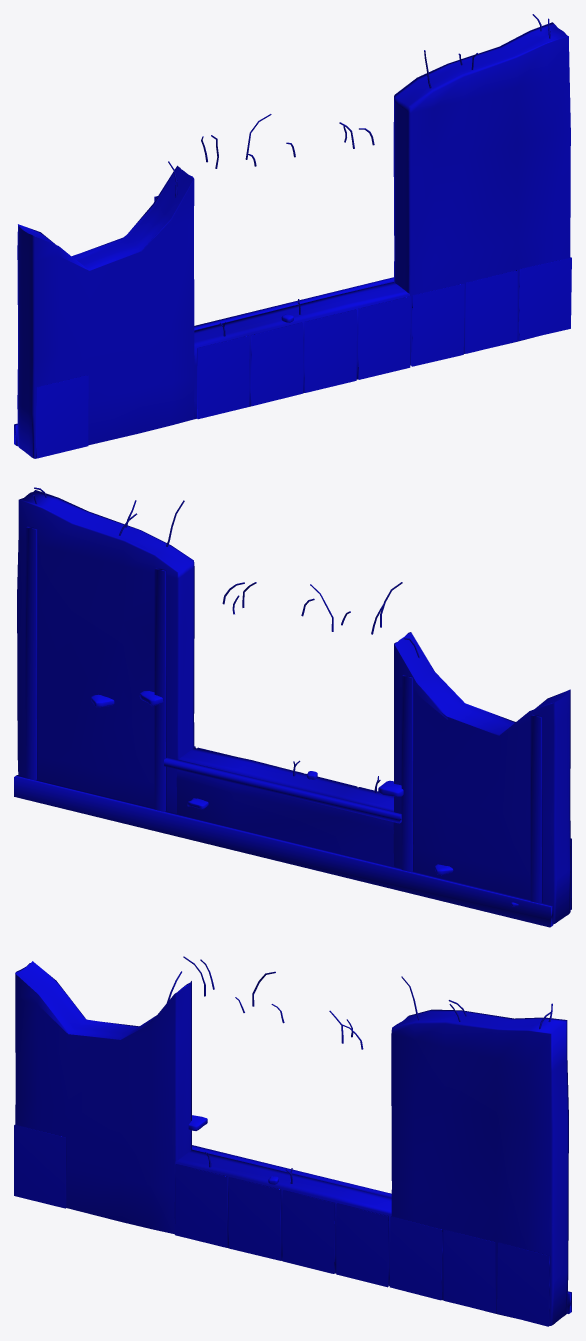
File: tower_bay_broken.glb
3 views of the same model, one above another, from view 1: azimuth 30°, elevation 25°; view 2: azimuth 150°, elevation 25°; view 3: azimuth 330°, elevation 25° (orthographic).
Visible parts, largest first — view 1: tower_bay_broken; view 2: tower_bay_broken; view 3: tower_bay_broken.
Boxes of the visible parts, x1=… form: tower_bay_broken: x1=14, y1=14, x2=571, y2=458; tower_bay_broken: x1=14, y1=487, x2=571, y2=927; tower_bay_broken: x1=14, y1=956, x2=571, y2=1326.
Size of what is drawn, in the model's own units: 6.02 by 3.38 by 0.5899.
